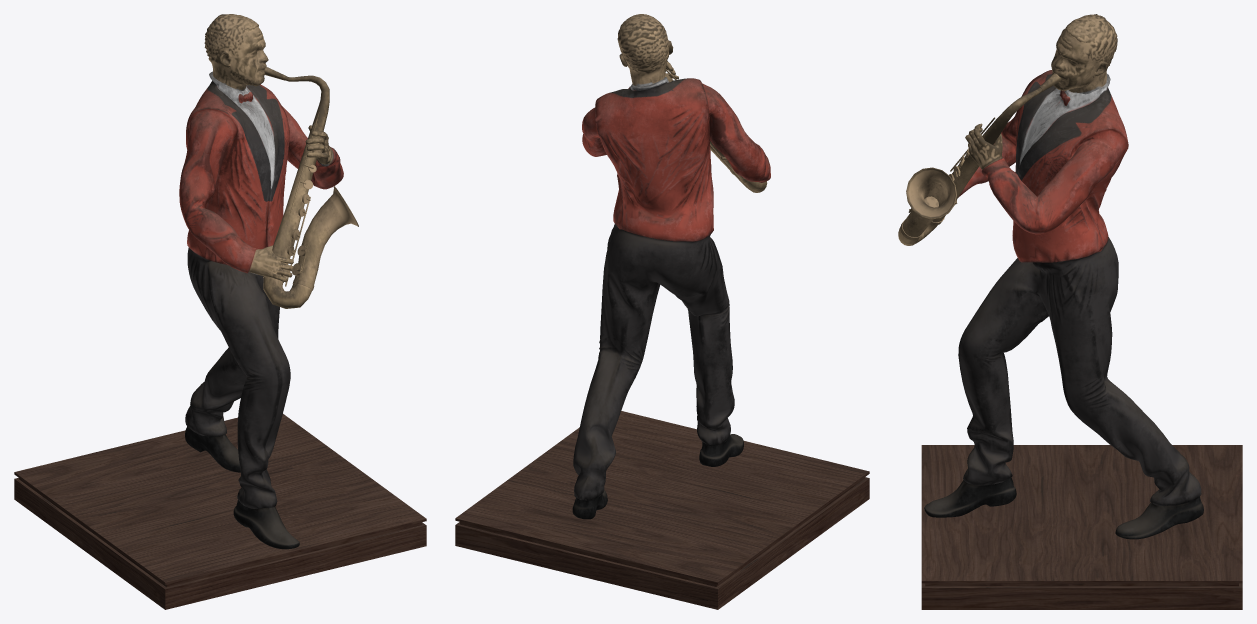
Rendered from statue.glb.
3 renders of one model, left to right at view 1: azimuth 30°, elevation 25°; view 2: azimuth 150°, elevation 25°; view 3: azimuth 270°, elevation 25°, orthographic. The views are drawn at different scales.
Parts seen in each view (by area): view 1: statue; view 2: statue; view 3: statue.
Part boxes in pixels (left/top/right/bottom): statue: left=14, top=14, right=426, bottom=609; statue: left=455, top=14, right=869, bottom=609; statue: left=898, top=14, right=1242, bottom=609.
Bounding box in the file's own units: 1 × 1.83 × 1.07.
1 material, 1 textured.
